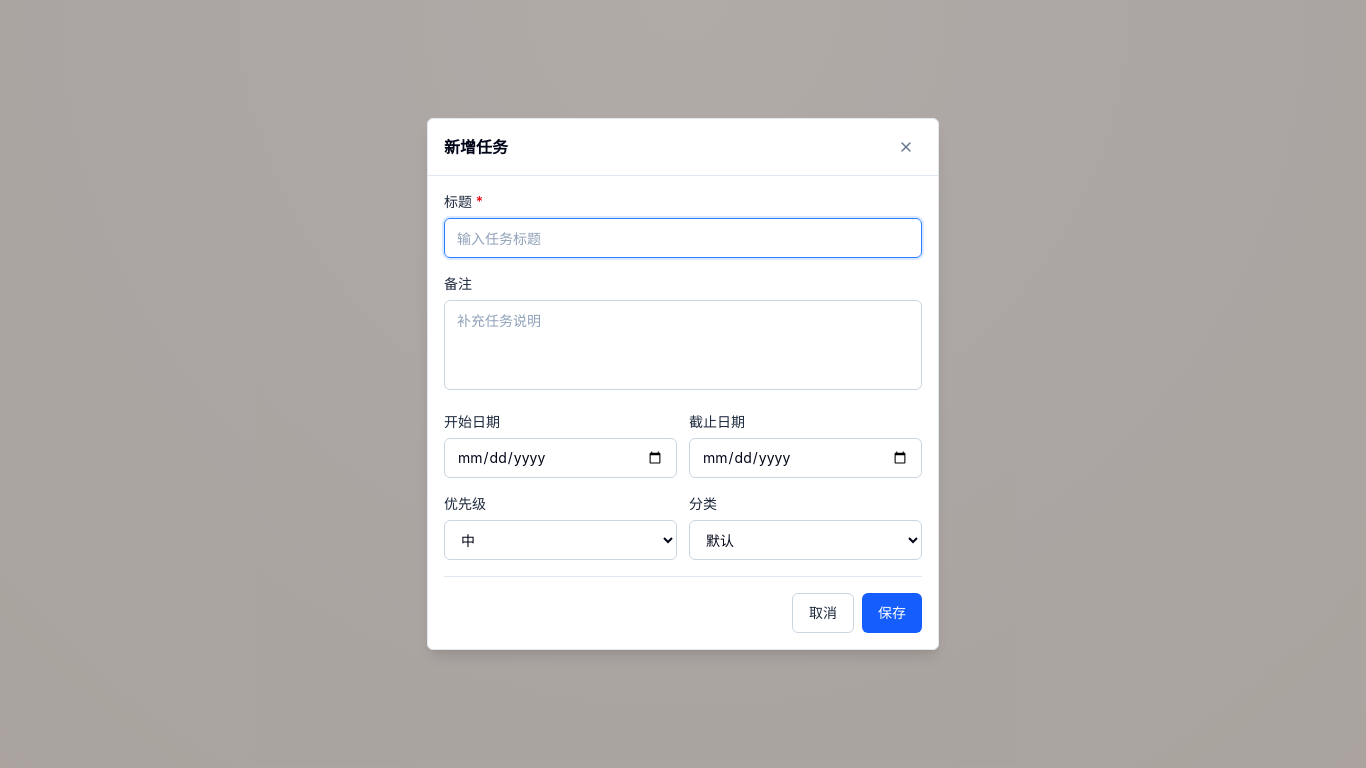
Test: TodoEditor › validates required title before saving
The image size is (1366, 768).
Click the button "保存". click: (892, 613)
box: [862,593,922,633]
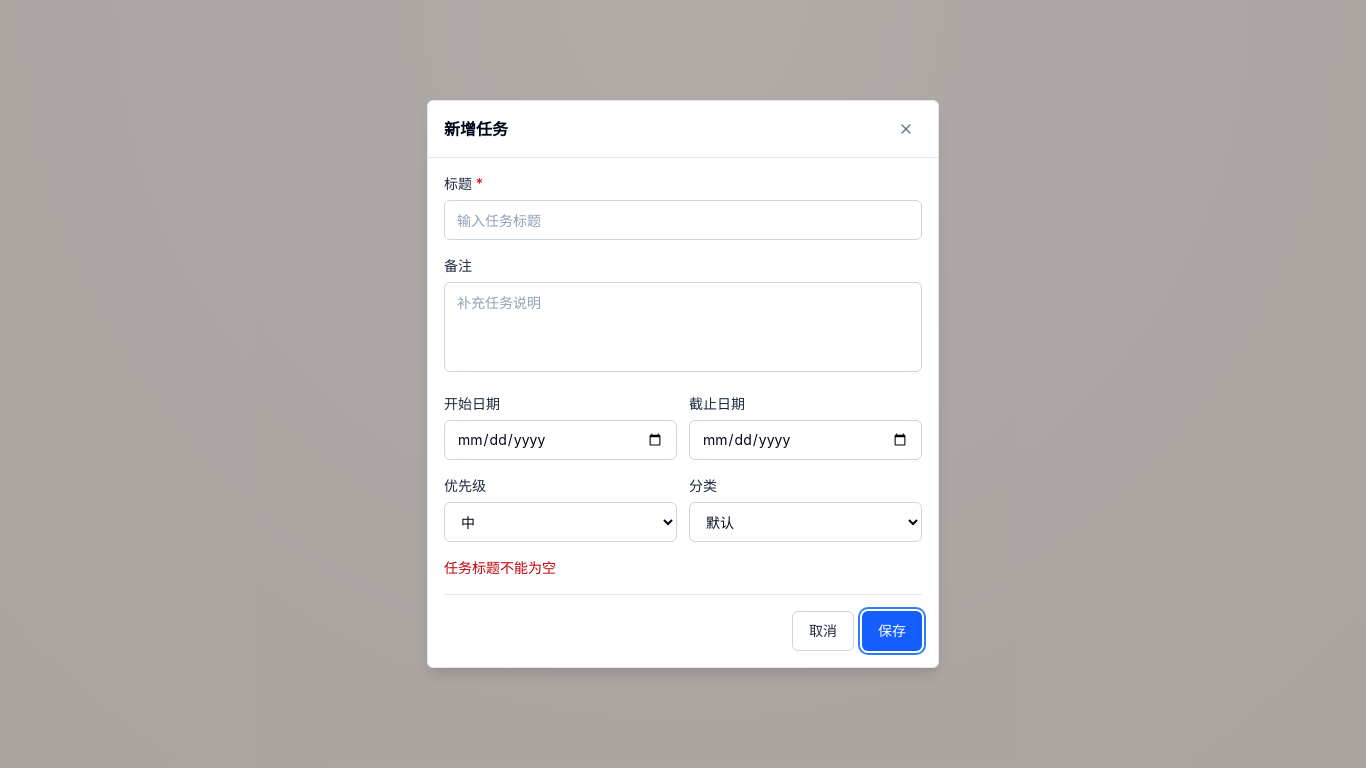
Expected: the text "任务标题不能为空" is shown, [444,559,556,576]
